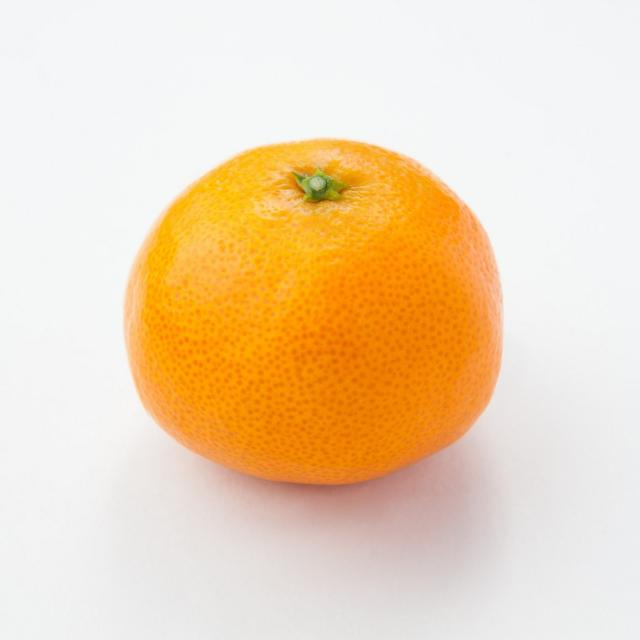Orange: (121, 136, 508, 491)
